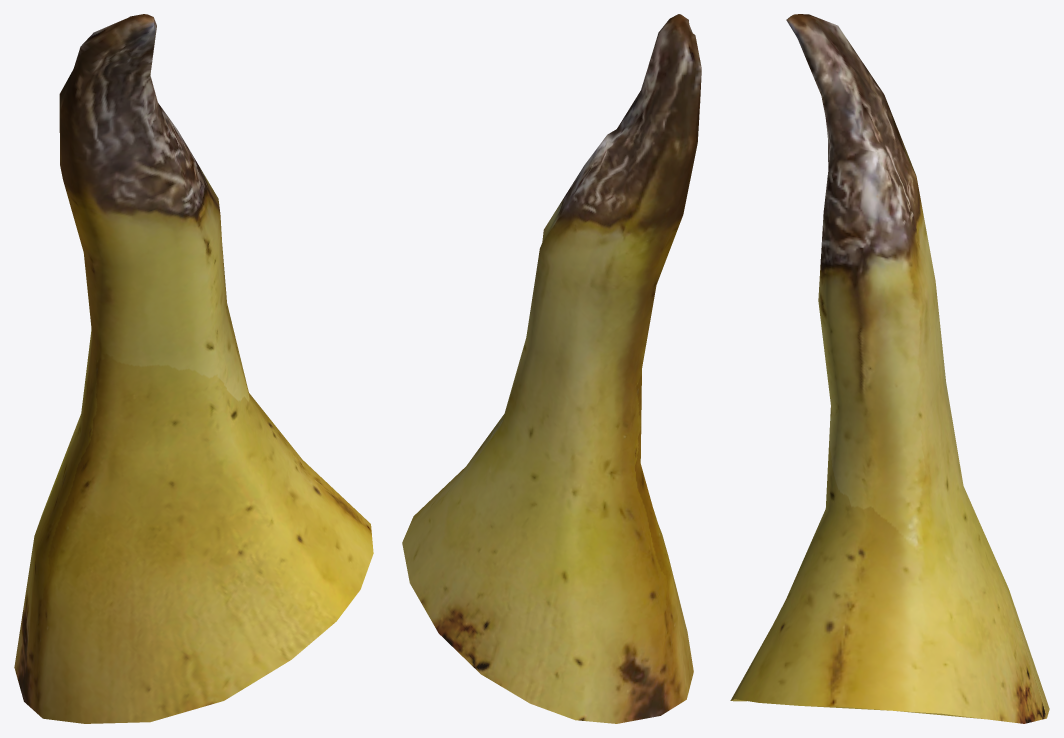
The model's file is BananaBonus_00.fbx.
3 views of the same model, side by side, from view 1: azimuth 30°, elevation 25°; view 2: azimuth 150°, elevation 25°; view 3: azimuth 270°, elevation 25° (orthographic). The views are drawn at different scales.
Parts seen in each view (by area): view 1: BananaBonus_00; view 2: BananaBonus_00; view 3: BananaBonus_00.
Boxes of the visible parts, x1,y1,x2,y2 form: BananaBonus_00: [14, 14, 373, 723]; BananaBonus_00: [402, 14, 701, 723]; BananaBonus_00: [730, 14, 1049, 723].
Bounding box in the file's own units: 0.2456 × 0.557 × 0.2274.
1 material, 1 textured.
